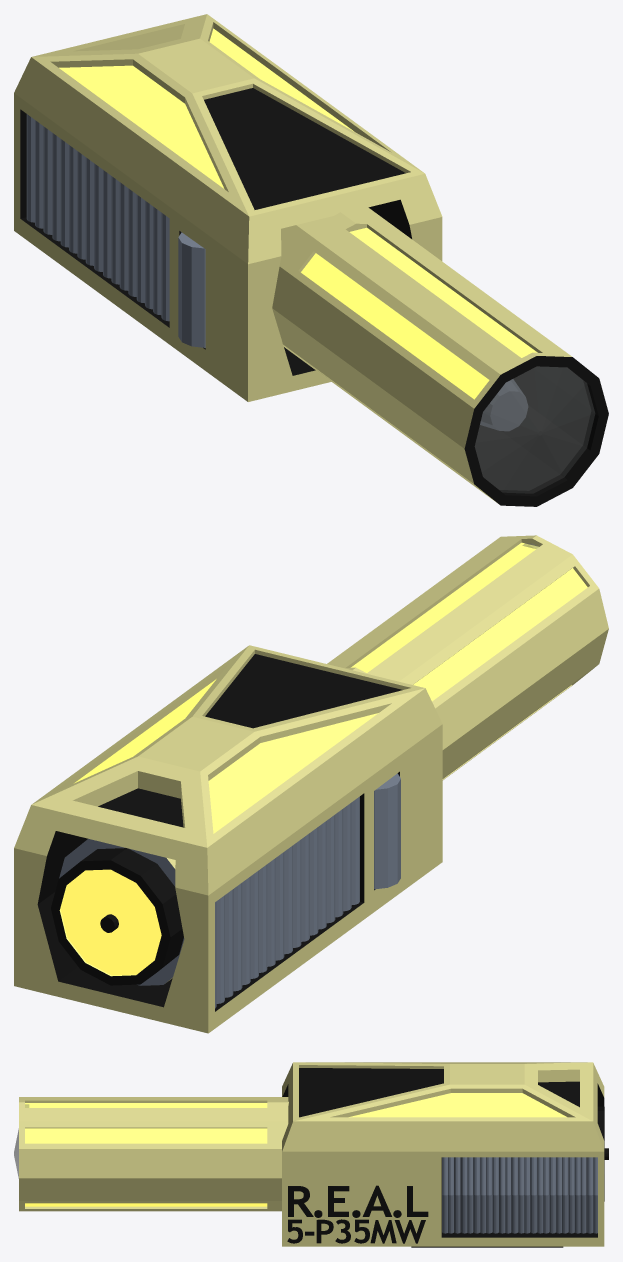
Rendered from Size5RealPulseLaser.glb.
3 views of the same model, one above another, from view 1: azimuth 30°, elevation 25°; view 2: azimuth 150°, elevation 25°; view 3: azimuth 270°, elevation 25° (orthographic). The views are drawn at different scales.
Visible parts, largest first — view 1: Size5RealPulseLaser; view 2: Size5RealPulseLaser; view 3: Size5RealPulseLaser.
Boxes of the visible parts, x1,y1,x2,y2 form: Size5RealPulseLaser: [14, 14, 608, 506]; Size5RealPulseLaser: [14, 535, 608, 1033]; Size5RealPulseLaser: [14, 1062, 608, 1247].
Bounding box in the file's own units: 1.08 × 1.11 × 3.92.
